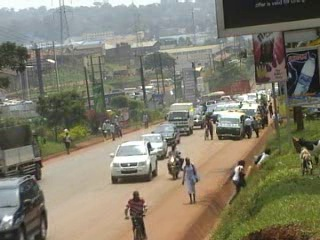Car: (0, 174, 56, 239), (107, 139, 159, 184), (149, 121, 184, 151), (138, 131, 168, 157), (191, 107, 207, 131)
Motorcycle: (165, 143, 186, 180)
